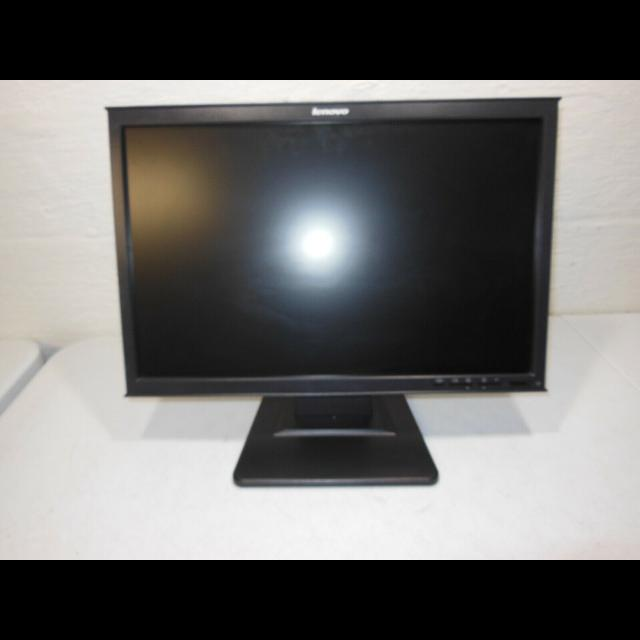Flat-Panel-Monitor: (106, 105, 556, 487)
